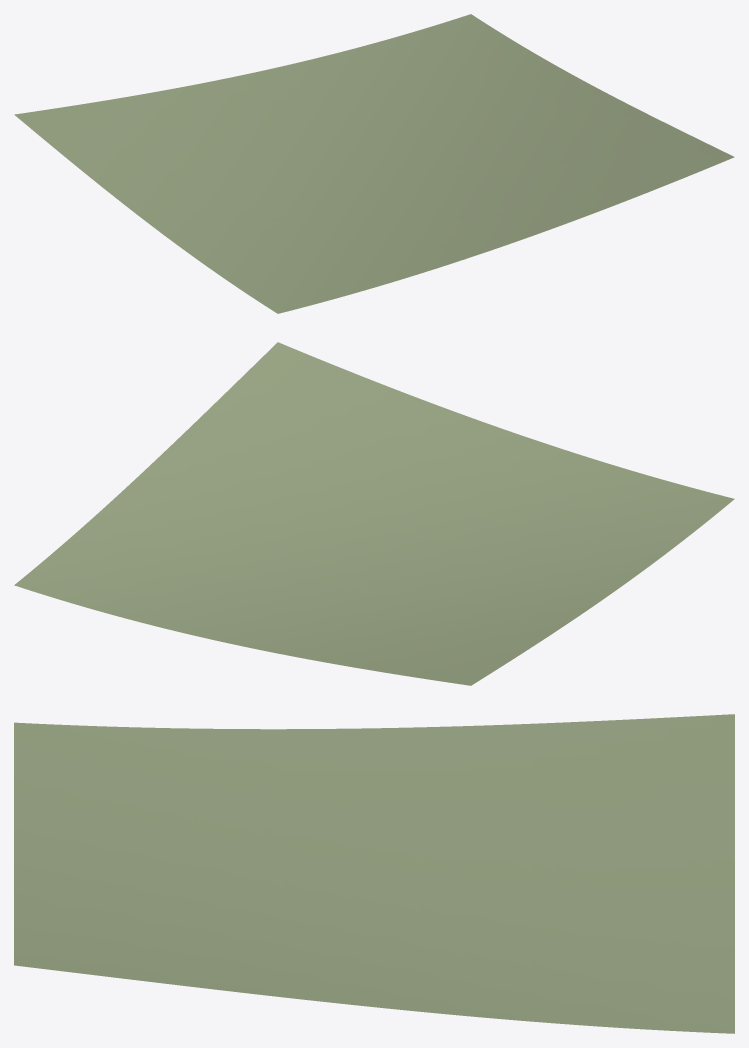
The model's file is alpine-5-0.glb.
3 renders of one model, top to bottom at view 1: azimuth 30°, elevation 25°; view 2: azimuth 150°, elevation 25°; view 3: azimuth 270°, elevation 25°, orthographic. The views are drawn at different scales.
Visible parts, largest first — view 1: alpine-5-0; view 2: alpine-5-0; view 3: alpine-5-0.
Boxes of the visible parts, x1,y1,x2,y2 form: alpine-5-0: [14, 14, 734, 313]; alpine-5-0: [14, 342, 734, 685]; alpine-5-0: [14, 714, 734, 1033].
Bounding box in the file's own units: 256 × 30.41 × 256.
